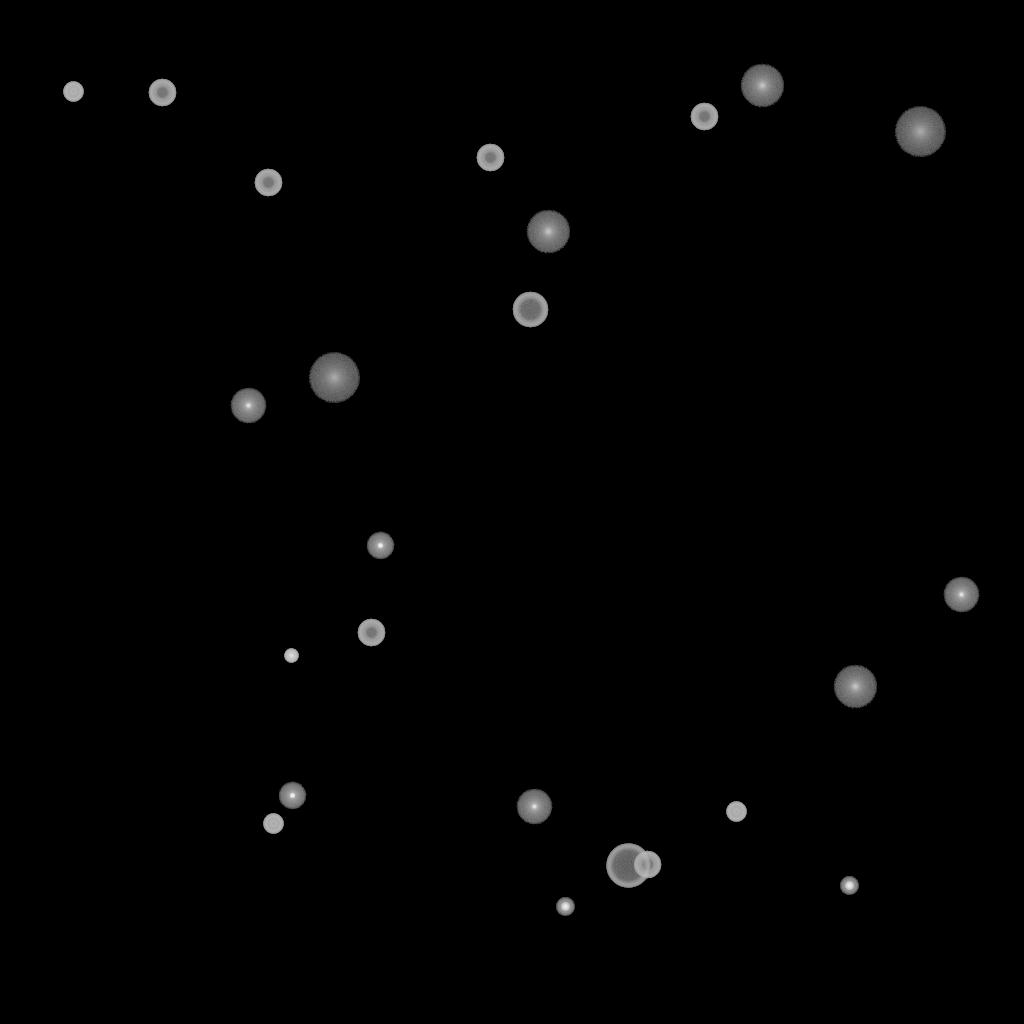depth:-10: (366, 532, 394, 560), (278, 782, 306, 810)
depth:-20: (556, 898, 574, 916), (840, 877, 858, 895)
depth:-30: (284, 649, 298, 663)
depth:-40: (726, 802, 746, 822), (63, 82, 83, 102), (263, 814, 283, 834)
depth:-50: (633, 851, 661, 879), (148, 79, 176, 107), (476, 144, 504, 172), (690, 103, 718, 131), (254, 169, 282, 197), (357, 619, 385, 647)
depth:-60: (512, 292, 548, 328)
depth:-70: (606, 844, 650, 888)
depth:0: (943, 577, 979, 613), (230, 388, 266, 424), (516, 789, 552, 825)
depth:10: (526, 210, 570, 254), (833, 665, 877, 709), (740, 64, 784, 108)
depth:20: (308, 353, 360, 403), (894, 107, 946, 157)
